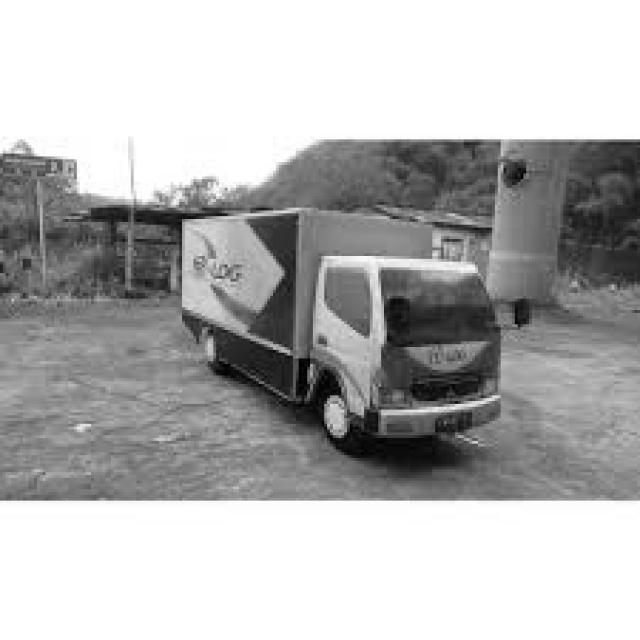truck: (289, 230, 540, 477)
